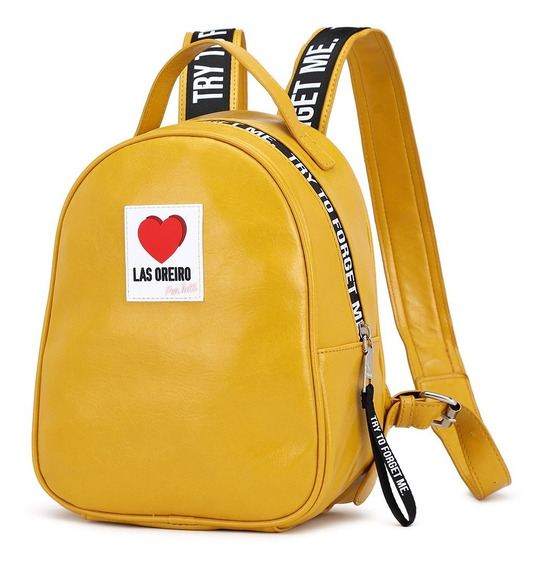cartera: (29, 25, 515, 536)
